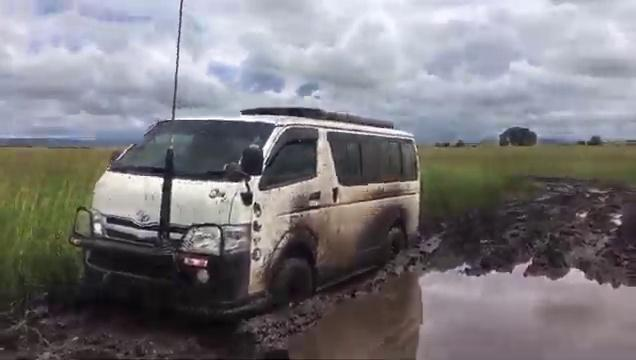van: (76, 105, 425, 309)
